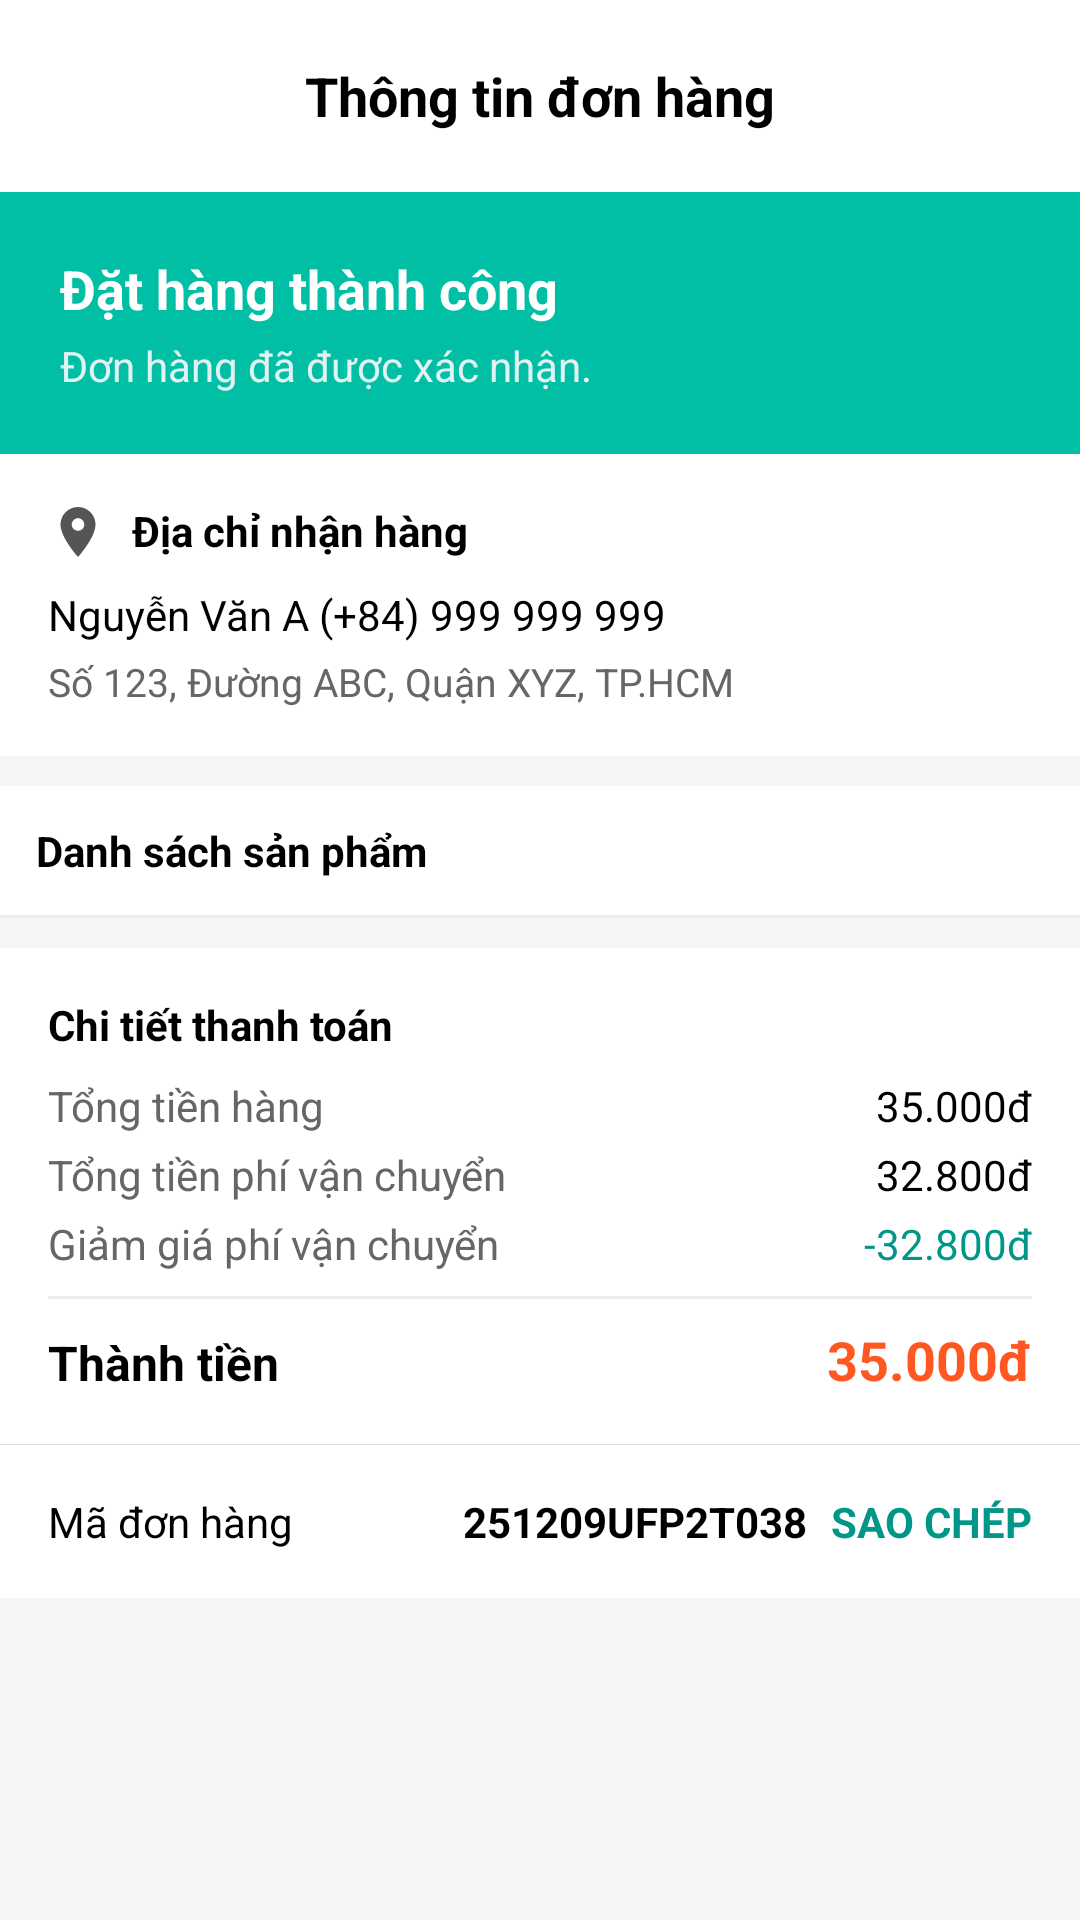

Named icons in this screenshot (1080px x 1920px) and their bounding boxes, (x1, y1, x2, y2):
location: (60, 507, 96, 557)
